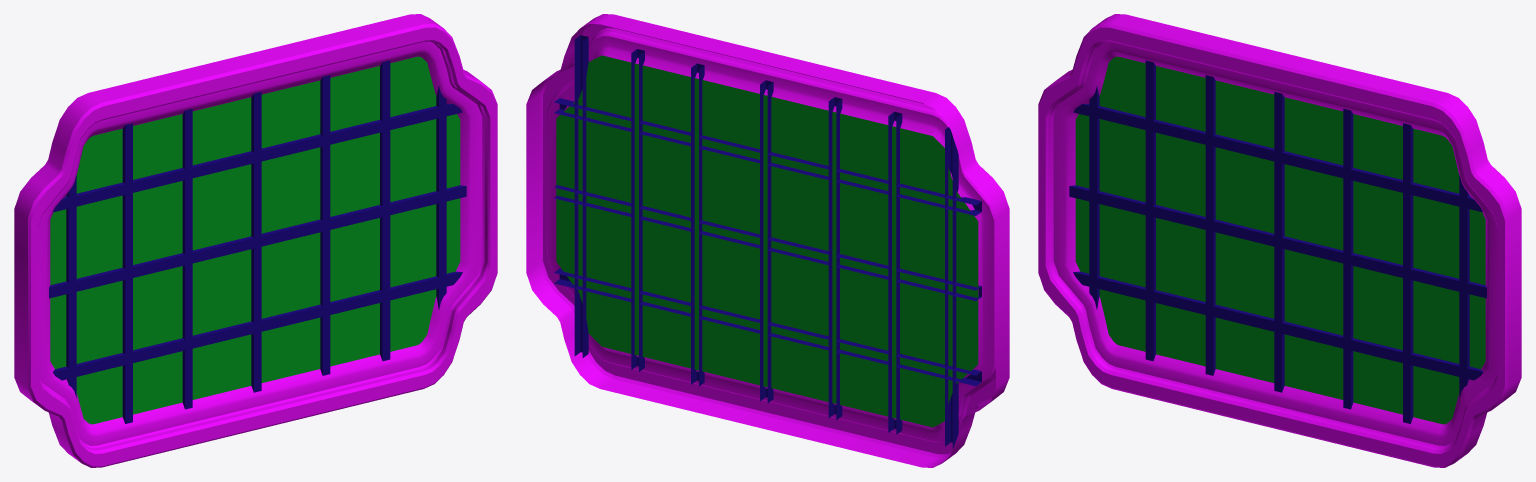
The model's file is Fenetre_Double_02_4x4x0.fbx.
3 views of the same model, side by side, from view 1: azimuth 30°, elevation 25°; view 2: azimuth 150°, elevation 25°; view 3: azimuth 330°, elevation 25° (orthographic).
Visible parts, largest first — view 1: Fenetre_Double_02_4x4x0_LOD0; view 2: Fenetre_Double_02_4x4x0_LOD0; view 3: Fenetre_Double_02_4x4x0_LOD0.
Part boxes in pixels (x1,y1,x2,y2): Fenetre_Double_02_4x4x0_LOD0: (14,14,497,467); Fenetre_Double_02_4x4x0_LOD0: (526,14,1009,467); Fenetre_Double_02_4x4x0_LOD0: (1038,14,1521,467).
Bounding box in the file's own units: 291 × 216 × 16.08.
